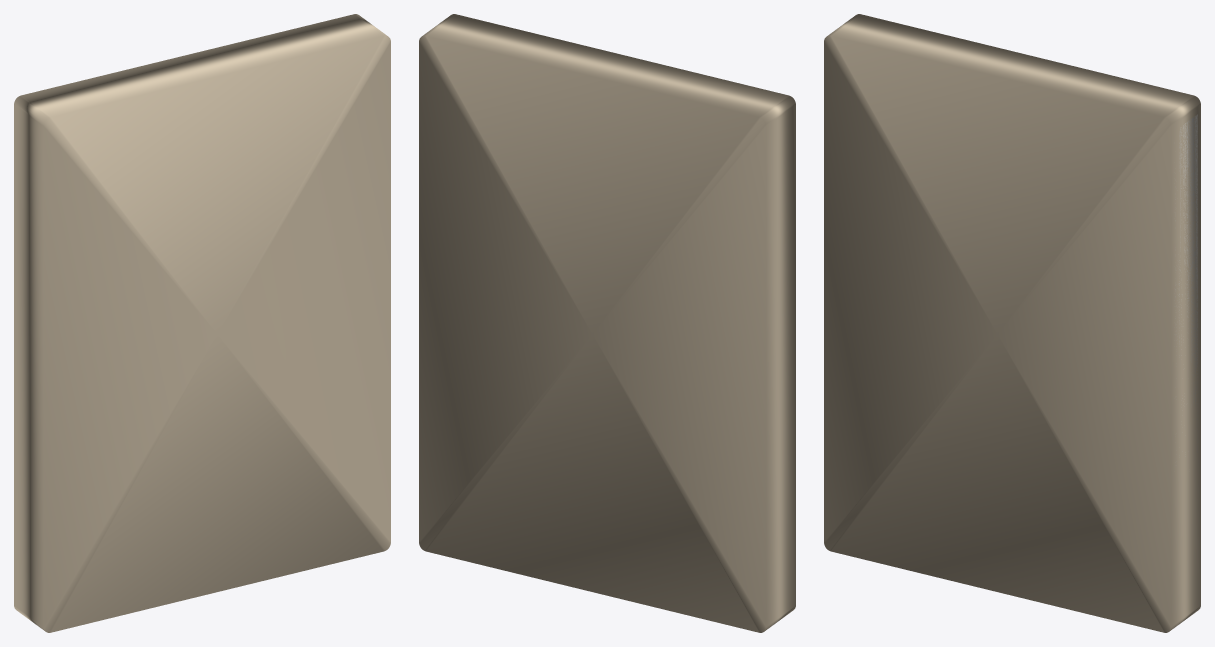
File: book.glb
The picture shows the model from 3 angles, left to right: view 1: azimuth 30°, elevation 25°; view 2: azimuth 150°, elevation 25°; view 3: azimuth 330°, elevation 25°; orthographic projection.
Visible parts, largest first — view 1: book; view 2: book; view 3: book, pages.
Boxes of the visible parts, x1=… form: book: x1=14, y1=14, x2=390, y2=632; book: x1=419, y1=14, x2=795, y2=632; book: x1=824, y1=14, x2=1200, y2=632; pages: x1=1175, y1=114, x2=1197, y2=452.
Bounding box in the file's own units: 0.148 × 0.21 × 0.022.
